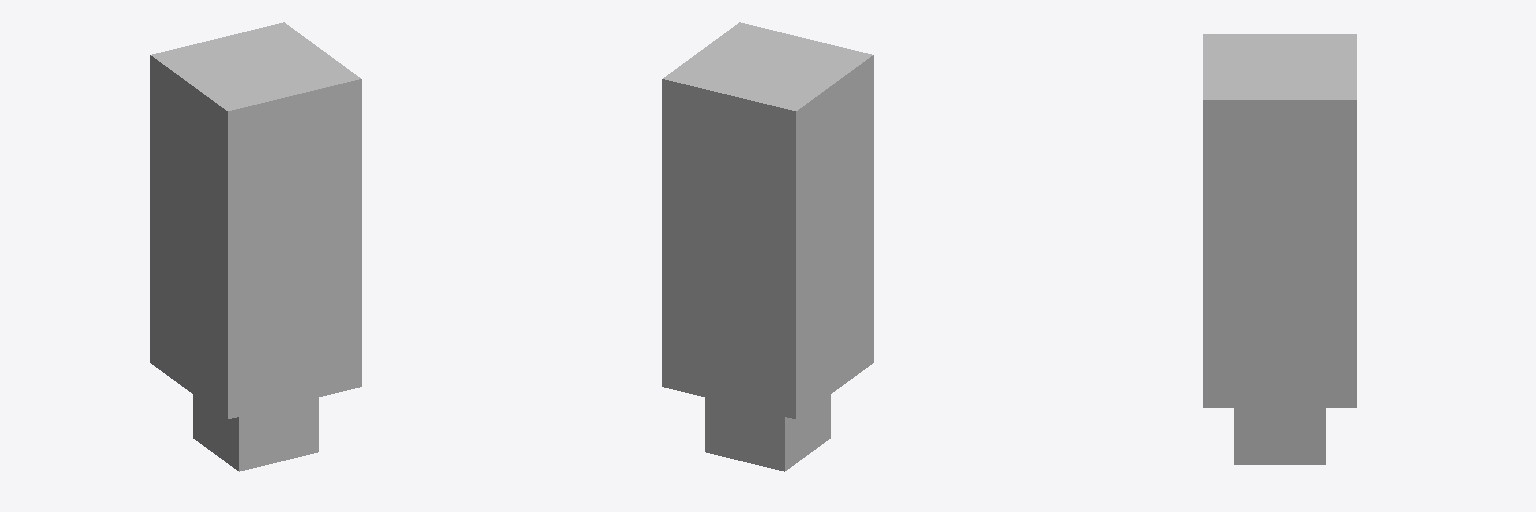
Rendered from Tree2.obj.
3 renders of one model, left to right at view 1: azimuth 30°, elevation 25°; view 2: azimuth 150°, elevation 25°; view 3: azimuth 270°, elevation 25°, orthographic.
Visible parts, largest first — view 1: object 1; view 2: object 1; view 3: object 1.
Boxes of the visible parts, box(x1,y1,x2,y2) form: object 1: box(150, 22, 361, 471); object 1: box(662, 22, 873, 471); object 1: box(1203, 34, 1356, 464).
Size of the model in its own units: 4 by 10.8 by 4.